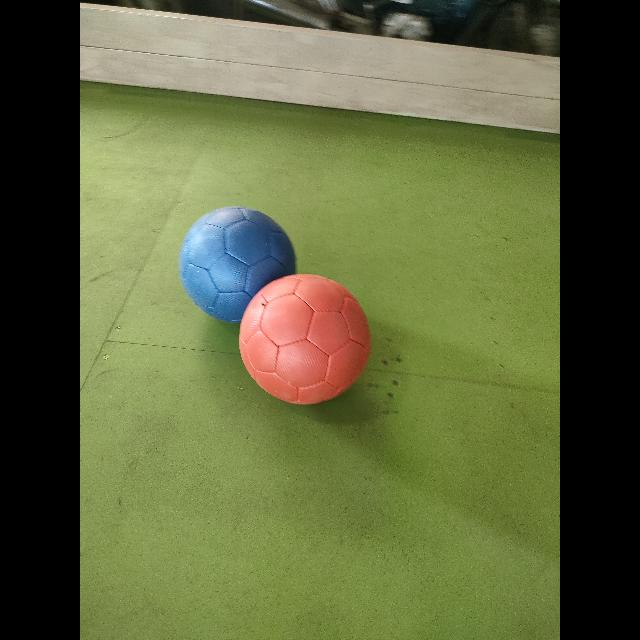B: (179, 206, 296, 322)
R: (239, 274, 370, 404)
